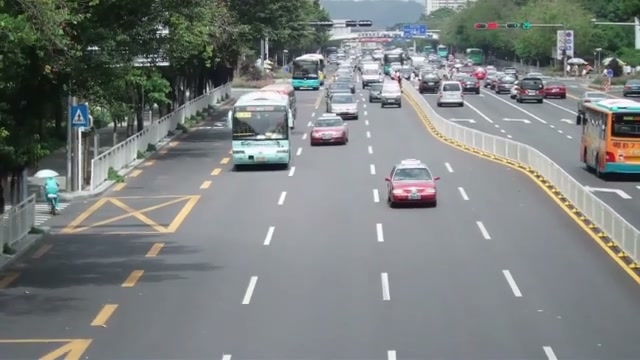bus: (577, 95, 640, 180), (231, 90, 293, 170), (292, 54, 326, 90)
car: (385, 159, 440, 209), (259, 82, 298, 121), (309, 114, 349, 146), (327, 92, 359, 121), (511, 78, 545, 104), (436, 81, 464, 108), (379, 81, 402, 108), (453, 75, 480, 95), (493, 74, 517, 93), (543, 84, 567, 99), (623, 78, 640, 97)
pedestrian: (43, 176, 60, 214)
truck: (359, 61, 384, 89)
